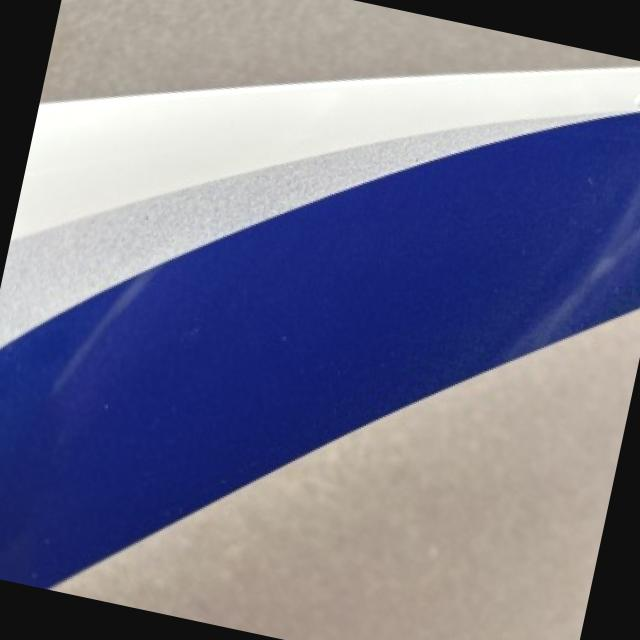healthy: (0, 65, 640, 640)
